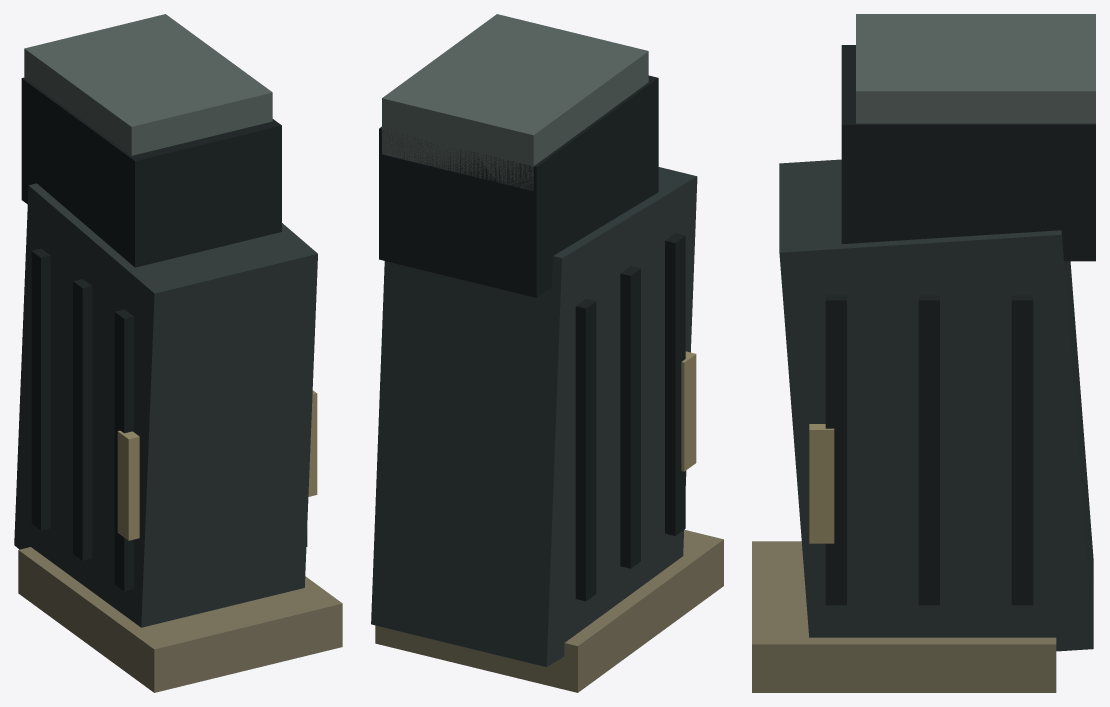
Rendered from magazine_box.glb.
3 views of the same model, side by side, from view 1: azimuth 30°, elevation 25°; view 2: azimuth 150°, elevation 25°; view 3: azimuth 270°, elevation 25° (orthographic). The views are drawn at different scales.
Visible parts, largest first — view 1: box magazine body, box magazine neck, magazine feed lips, box magazine floorplate, box mag rib -1 0, box mag rib -1 1, box mag rib -1 2, box mag witness slit -1, box mag witness slit 1; view 2: box magazine body, box magazine neck, magazine feed lips, box magazine floorplate, box mag rib -1 0, box mag rib -1 1, box mag rib -1 2, box mag witness slit -1; view 3: box magazine body, box magazine neck, magazine feed lips, box magazine floorplate, box mag rib 1 0, box mag rib 1 1, box mag rib 1 2, box mag witness slit 1.
Part boxes in pixels (box(x1,y1,x2,y2)): box magazine body: box(14, 183, 317, 627); box magazine neck: box(21, 77, 281, 267); magazine feed lips: box(24, 14, 272, 155); box magazine floorplate: box(18, 547, 342, 692); box mag rib -1 0: box(31, 248, 50, 530); box mag rib -1 1: box(73, 279, 92, 560); box mag rib -1 2: box(114, 309, 133, 591); box mag witness slit -1: box(117, 430, 139, 540); box mag witness slit 1: box(308, 390, 317, 496); box magazine body: box(371, 167, 697, 666); box magazine neck: box(379, 75, 658, 297); magazine feed lips: box(382, 14, 648, 190); box magazine floorplate: box(375, 529, 723, 692); box mag rib -1 0: box(575, 298, 596, 601); box mag rib -1 1: box(620, 266, 640, 568); box mag rib -1 2: box(665, 233, 685, 535); box mag witness slit -1: box(681, 351, 696, 471); box magazine body: box(779, 159, 1093, 651); box magazine neck: box(841, 45, 1095, 261); magazine feed lips: box(856, 14, 1095, 123); box magazine floorplate: box(752, 541, 1056, 692); box mag rib 1 0: box(1011, 295, 1033, 605); box mag rib 1 1: box(918, 295, 939, 605); box mag rib 1 2: box(825, 295, 846, 605); box mag witness slit 1: box(809, 424, 834, 543).
Bounding box in the file's own units: 0.068 × 0.1815 × 0.096.
